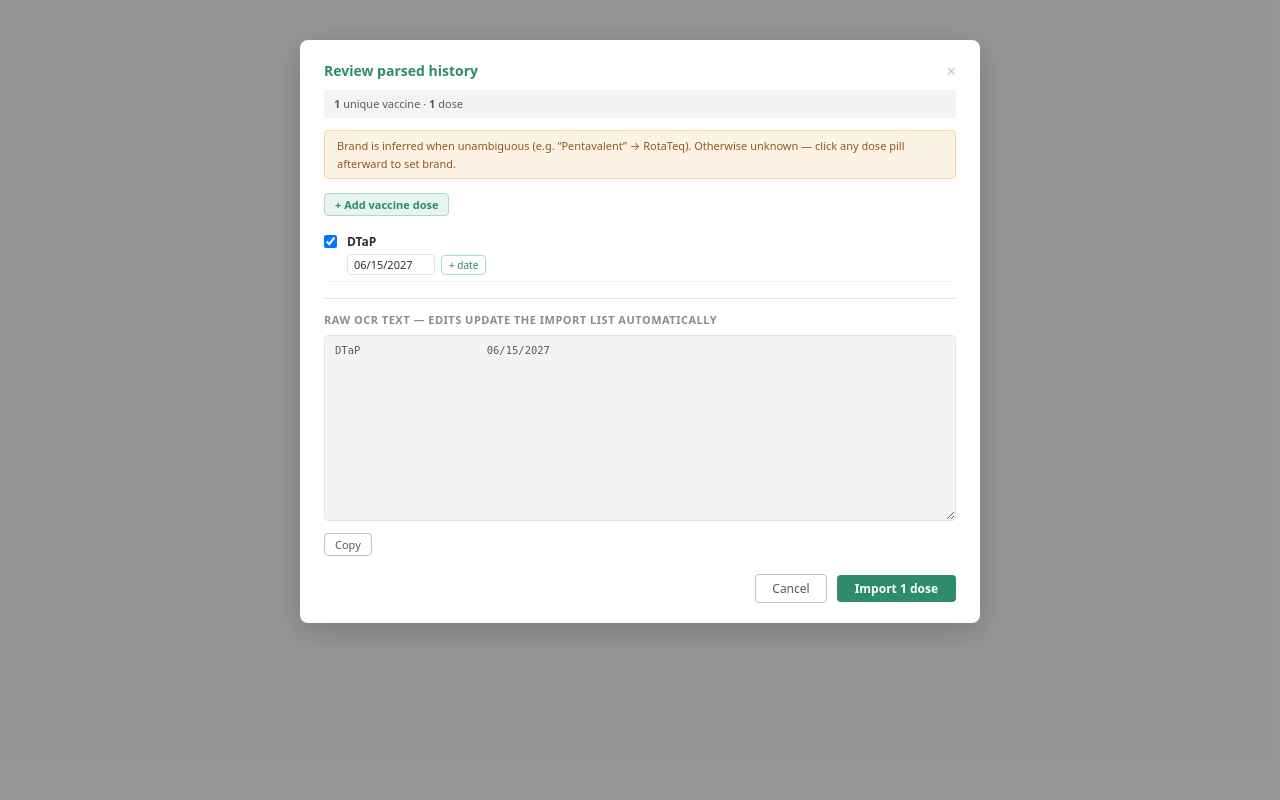
Test: ReviewModal — H6.2: confirm-time date validation warnings › clicking Import with a future date shows the confirm-warnings panel
Click the button with test id "ocr-confirm-btn".
click(896, 589)  # box x1=837 y1=575 x2=956 y2=602
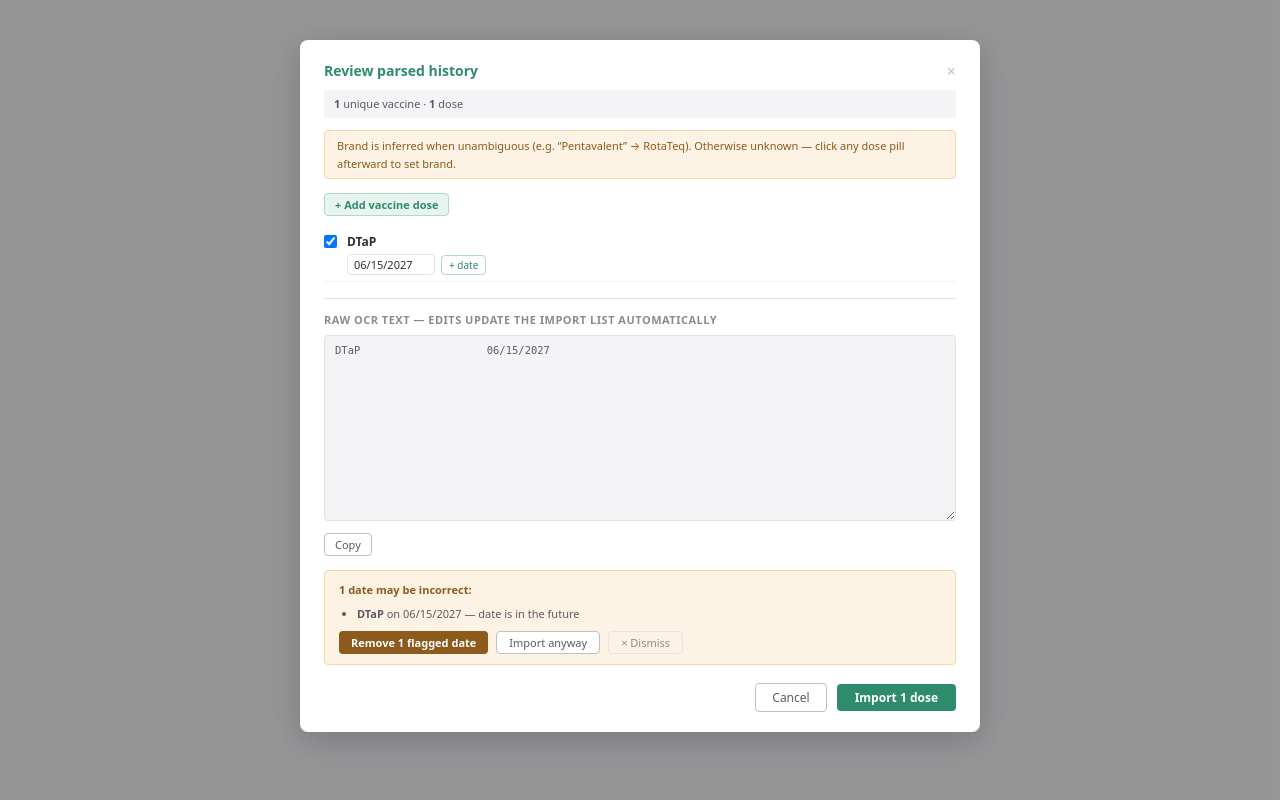
Expected: the element with test id "ocr-confirm-warnings" is shown, x1=324 y1=570 x2=956 y2=664
Expected: the element with test id "ocr-confirm-warnings" shows "future", x1=478 y1=606 x2=580 y2=621
